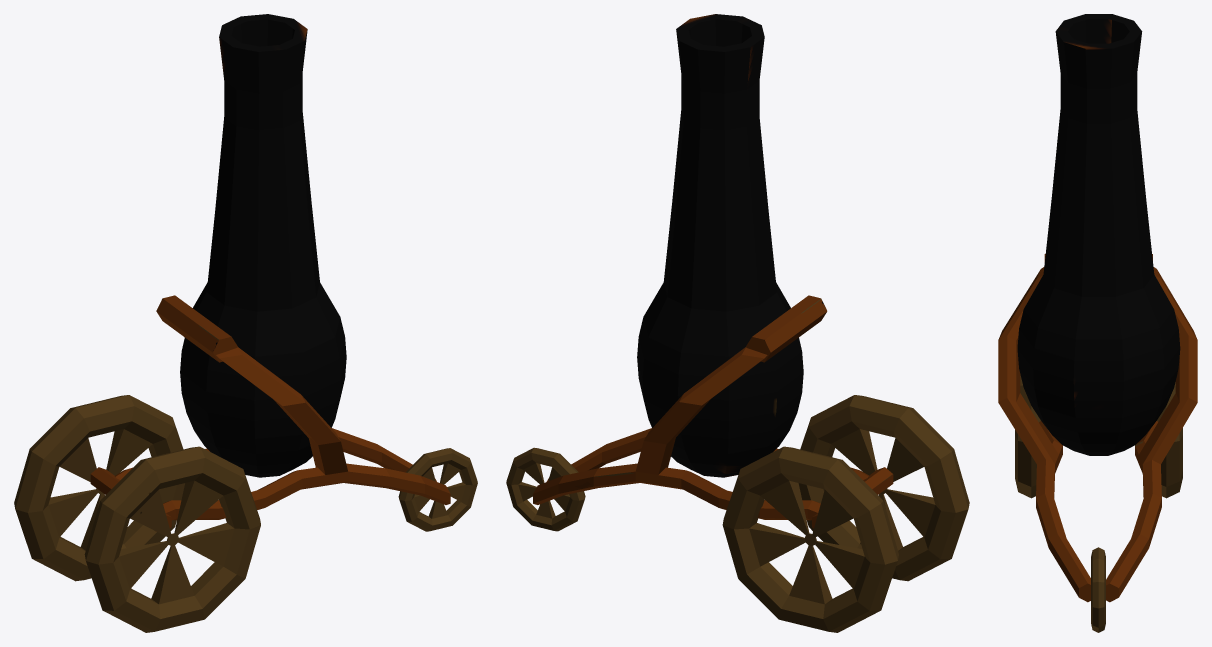
Rendered from Canon2.fbx.
The picture shows the model from 3 angles, left to right: view 1: azimuth 30°, elevation 25°; view 2: azimuth 150°, elevation 25°; view 3: azimuth 270°, elevation 25°; orthographic projection. The views are drawn at different scales.
Visible parts, largest first — view 1: Sphere.001, Sphere.002, Sphere.006, Sphere.004, Sphere.007, Sphere, Sphere.005; view 2: Sphere.001, Sphere.006, Sphere.002, Sphere.005, Sphere.007, Sphere, Sphere.004; view 3: Sphere.001, Sphere.004, Sphere.005, Sphere.002, Sphere.007, Sphere.006.
Boxes of the visible parts, x1,y1,x2,y2 form: Sphere.001: (180, 14, 346, 477); Sphere.002: (84, 446, 260, 632); Sphere.006: (14, 395, 184, 581); Sphere.004: (163, 347, 450, 520); Sphere.007: (398, 448, 477, 531); Sphere: (156, 295, 237, 362); Sphere.005: (115, 428, 436, 481); Sphere.001: (637, 14, 803, 477); Sphere.006: (722, 446, 898, 632); Sphere.002: (798, 395, 969, 581); Sphere.005: (533, 347, 820, 520); Sphere.007: (506, 447, 585, 531); Sphere: (746, 295, 827, 362); Sphere.004: (546, 428, 868, 481); Sphere.001: (1017, 14, 1180, 455); Sphere.004: (998, 267, 1090, 602); Sphere.005: (1106, 267, 1197, 602); Sphere.002: (1015, 374, 1040, 498); Sphere.007: (1091, 547, 1105, 632); Sphere.006: (1157, 382, 1182, 498).
Bounding box in the file's own units: 804 × 969 × 341.
Materials: 1 (1 with a texture image).
